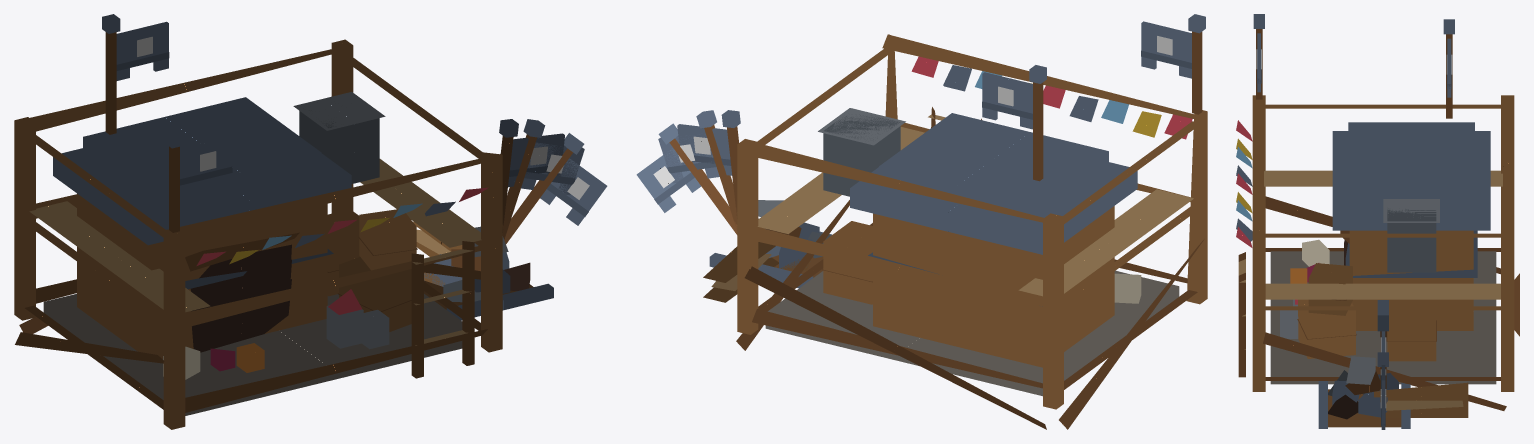
The model's file is raccoon-producer_lod1.glb.
3 renders of one model, left to right at view 1: azimuth 30°, elevation 25°; view 2: azimuth 150°, elevation 25°; view 3: azimuth 270°, elevation 25°, orthographic. The views are drawn at different scales.
Visible parts, largest first — view 1: scaffold-mesh, built-mesh, dismantle-75-mesh, dismantle-50-mesh, dismantle-25-mesh, banner, scaffold-banner, dismantle-25-banner, flag-pole, dismantle-75-banner, dismantle-50-banner, dismantle-25-flag-pole (+3 smaller); view 2: scaffold-mesh, built-mesh, dismantle-75-mesh, dismantle-50-mesh, banner, scaffold-banner, dismantle-25-banner, dismantle-75-banner, dismantle-25-mesh, flag-pole, dismantle-25-flag-pole, scaffold-flag-pole (+3 smaller); view 3: scaffold-mesh, built-mesh, dismantle-25-mesh, dismantle-75-mesh, dismantle-50-mesh, flag-pole, scaffold-flag-pole, banner, scaffold-banner, dismantle-25-banner.
Part boxes in pixels (x1=…): scaffold-mesh: x1=14, y1=39, x2=502, y2=429; built-mesh: x1=53, y1=92, x2=417, y2=379; dismantle-75-mesh: x1=77, y1=203, x2=462, y2=353; dismantle-50-mesh: x1=77, y1=252, x2=553, y2=352; dismantle-25-mesh: x1=210, y1=226, x2=553, y2=371; banner: x1=116, y1=21, x2=169, y2=80; scaffold-banner: x1=180, y1=136, x2=232, y2=195; dismantle-25-banner: x1=540, y1=158, x2=607, y2=225; flag-pole: x1=102, y1=14, x2=120, y2=134; dismantle-75-banner: x1=508, y1=133, x2=564, y2=187; dismantle-50-banner: x1=521, y1=142, x2=584, y2=194; dismantle-25-flag-pole: x1=504, y1=133, x2=584, y2=243; scaffold-mesh: x1=703, y1=34, x2=1207, y2=429; built-mesh: x1=765, y1=108, x2=1141, y2=396; dismantle-75-mesh: x1=779, y1=215, x2=1114, y2=351; dismantle-50-mesh: x1=709, y1=227, x2=1140, y2=350; banner: x1=982, y1=72, x2=1032, y2=129; scaffold-banner: x1=1141, y1=21, x2=1191, y2=78; dismantle-25-banner: x1=636, y1=148, x2=701, y2=212; dismantle-75-banner: x1=677, y1=124, x2=732, y2=175; dismantle-25-mesh: x1=709, y1=200, x2=831, y2=287; flag-pole: x1=1029, y1=65, x2=1046, y2=181; dismantle-25-flag-pole: x1=658, y1=123, x2=737, y2=234; scaffold-flag-pole: x1=1188, y1=14, x2=1205, y2=114; scaffold-mesh: x1=1236, y1=95, x2=1519, y2=417; built-mesh: x1=1280, y1=122, x2=1490, y2=360; dismantle-25-mesh: x1=1318, y1=356, x2=1410, y2=428; dismantle-75-mesh: x1=1270, y1=242, x2=1496, y2=394; dismantle-50-mesh: x1=1280, y1=259, x2=1410, y2=428; flag-pole: x1=1443, y1=19, x2=1454, y2=118; scaffold-flag-pole: x1=1253, y1=14, x2=1264, y2=99; banner: x1=1446, y1=38, x2=1452, y2=97; scaffold-banner: x1=1256, y1=33, x2=1261, y2=92; dismantle-25-banner: x1=1380, y1=380, x2=1386, y2=429.
Size of the model in its own units: 2.65 by 1.64 by 1.51.
